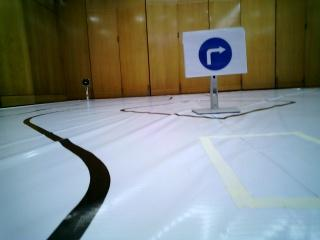right: (185, 32, 245, 72)
